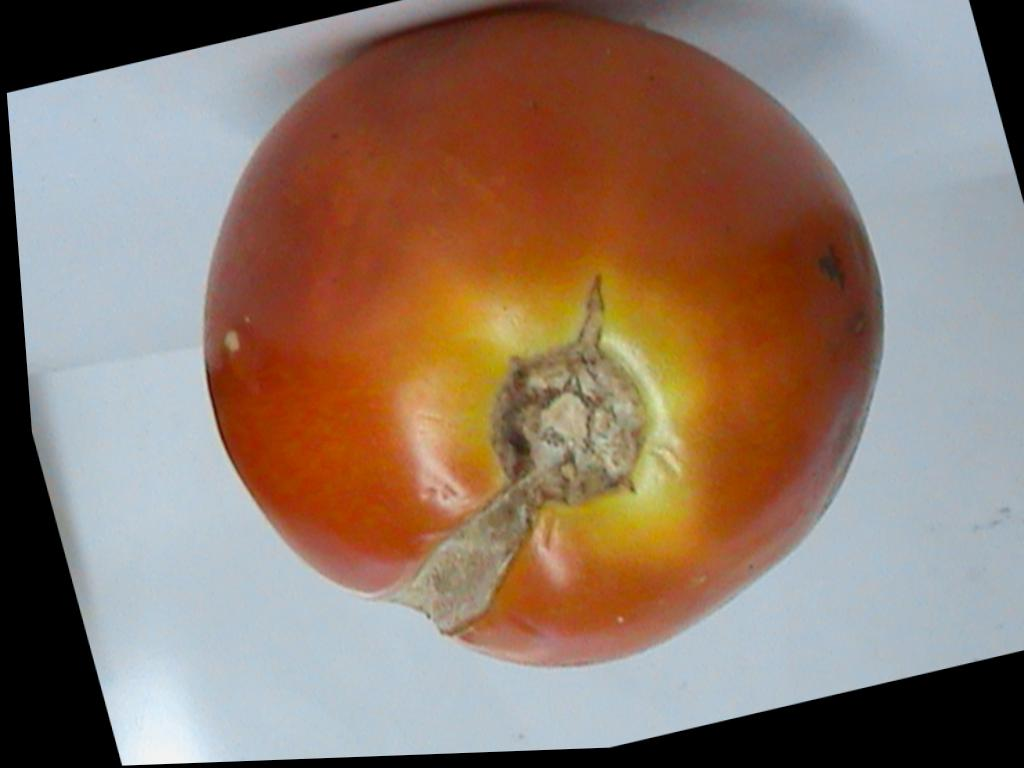bruise_discoloration: (815, 244, 846, 287), (853, 316, 867, 334)
surface_damage: (388, 478, 538, 634), (224, 332, 239, 352)
tomato: (206, 13, 883, 664)
